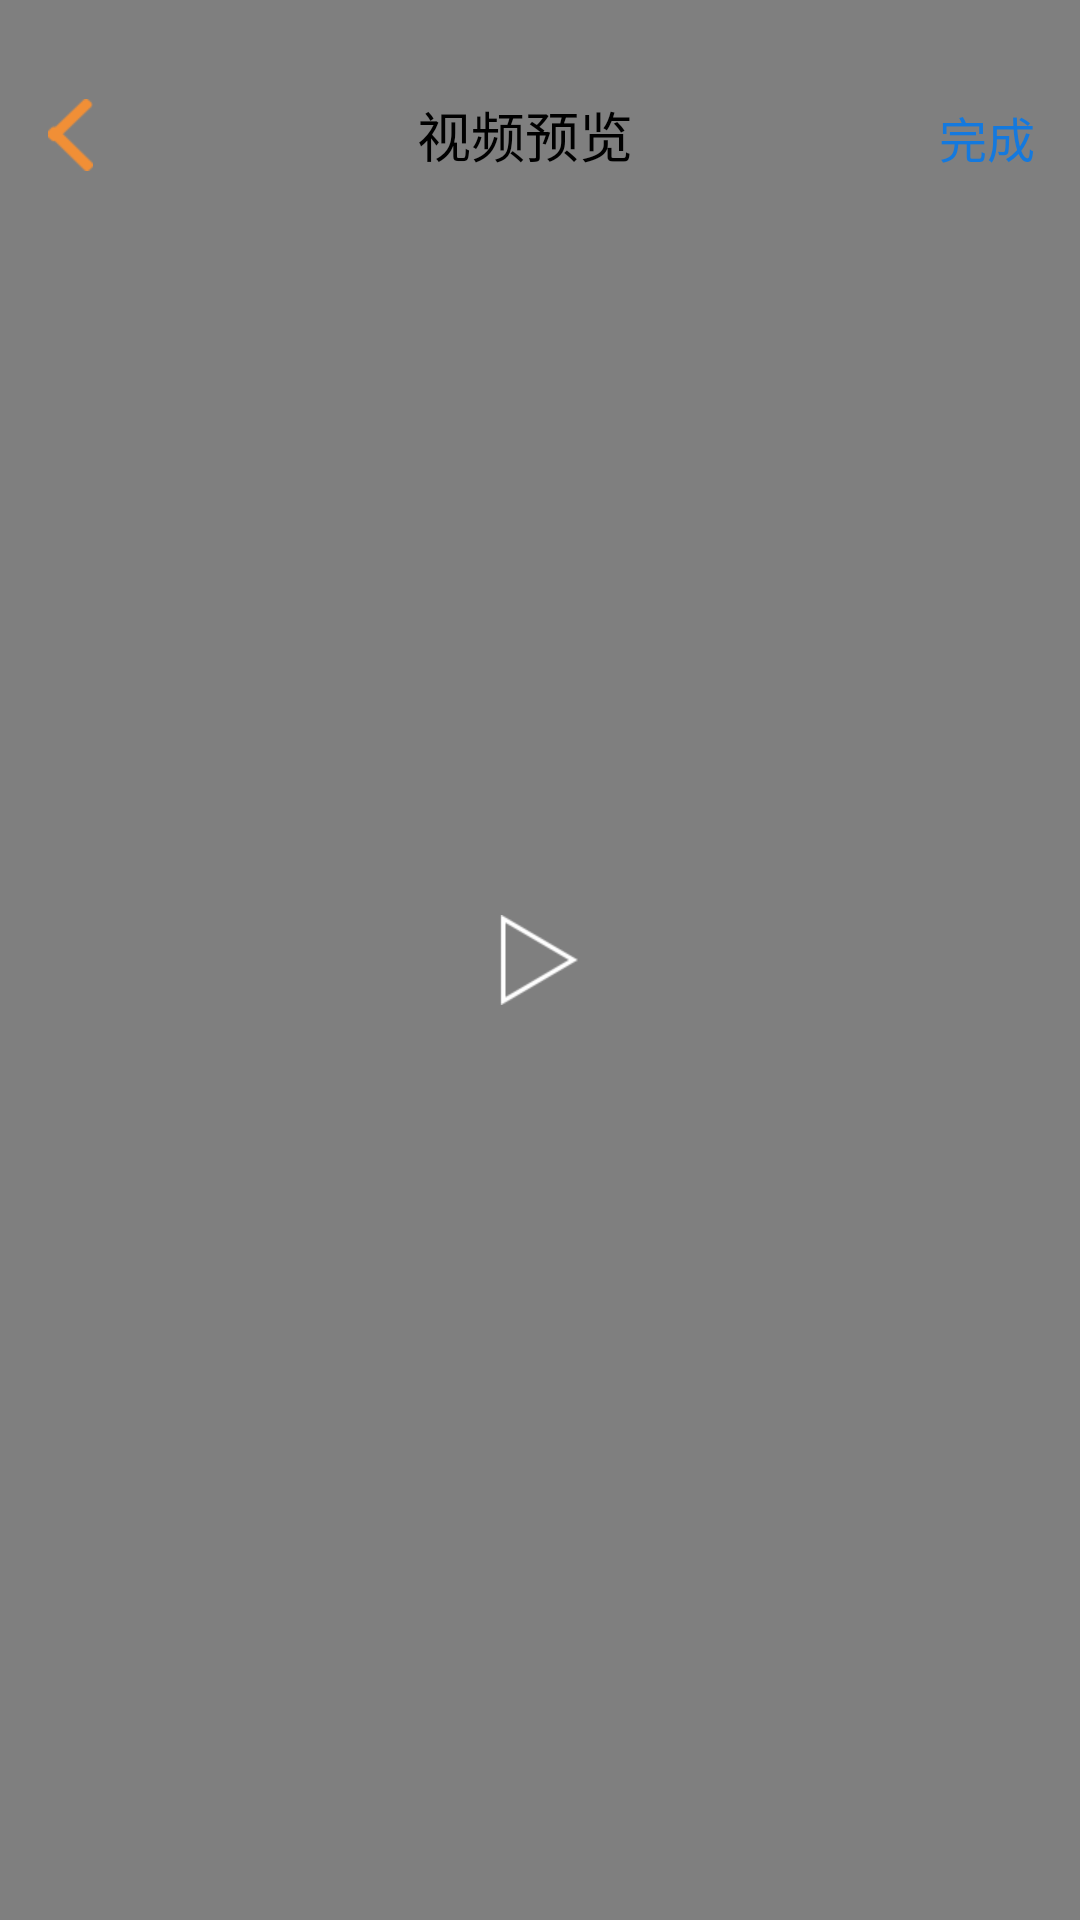

Icon bounding boxes for this 1080x1920 phone screenshot, format (x1, y1, x2, y2):
back: (48, 99, 93, 171)
play: (501, 915, 578, 1005)
